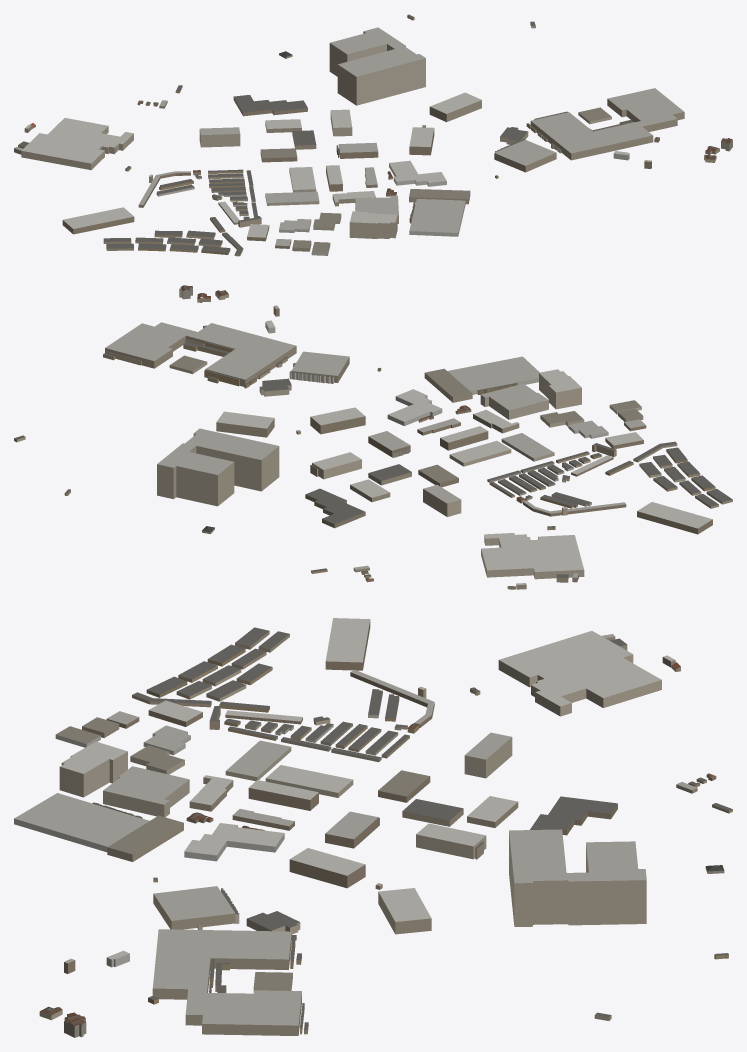
3 views of the same model, one above another, from view 1: azimuth 30°, elevation 25°; view 2: azimuth 150°, elevation 25°; view 3: azimuth 270°, elevation 25° (orthographic). The views are drawn at different scales.
Visible parts, largest first — view 1: buildings_r4_c6_lod1; view 2: buildings_r4_c6_lod1; view 3: buildings_r4_c6_lod1.
Part boxes in pixels (x1,y1,x2,y2): buildings_r4_c6_lod1: [14, 14, 732, 256]; buildings_r4_c6_lod1: [14, 285, 732, 589]; buildings_r4_c6_lod1: [14, 618, 732, 1037].
Bounding box in the file's own units: 1171 × 75.96 × 835.
